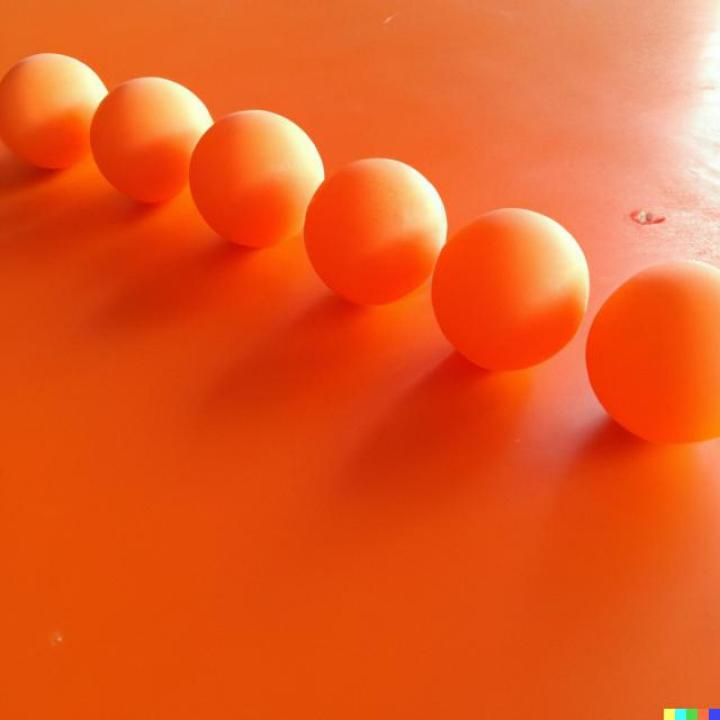orange: (429, 208, 590, 371), (586, 258, 720, 446), (301, 158, 446, 306), (190, 110, 326, 248), (89, 77, 214, 202), (0, 54, 110, 170)
